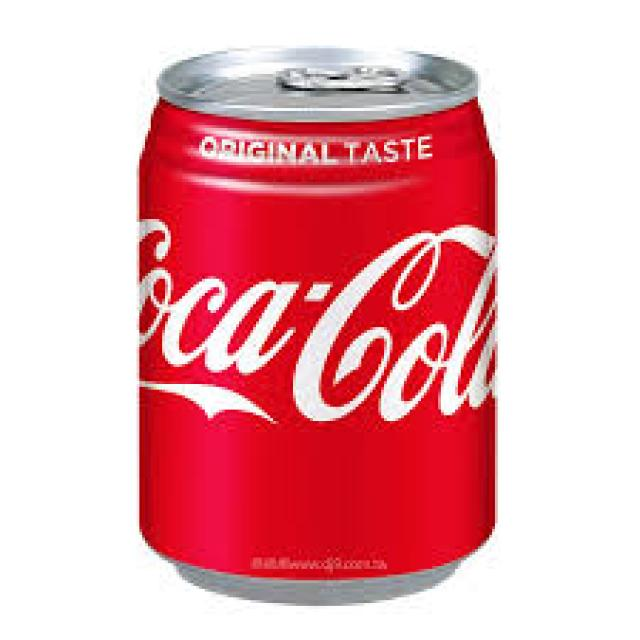aluminum_can: (139, 51, 498, 582)
